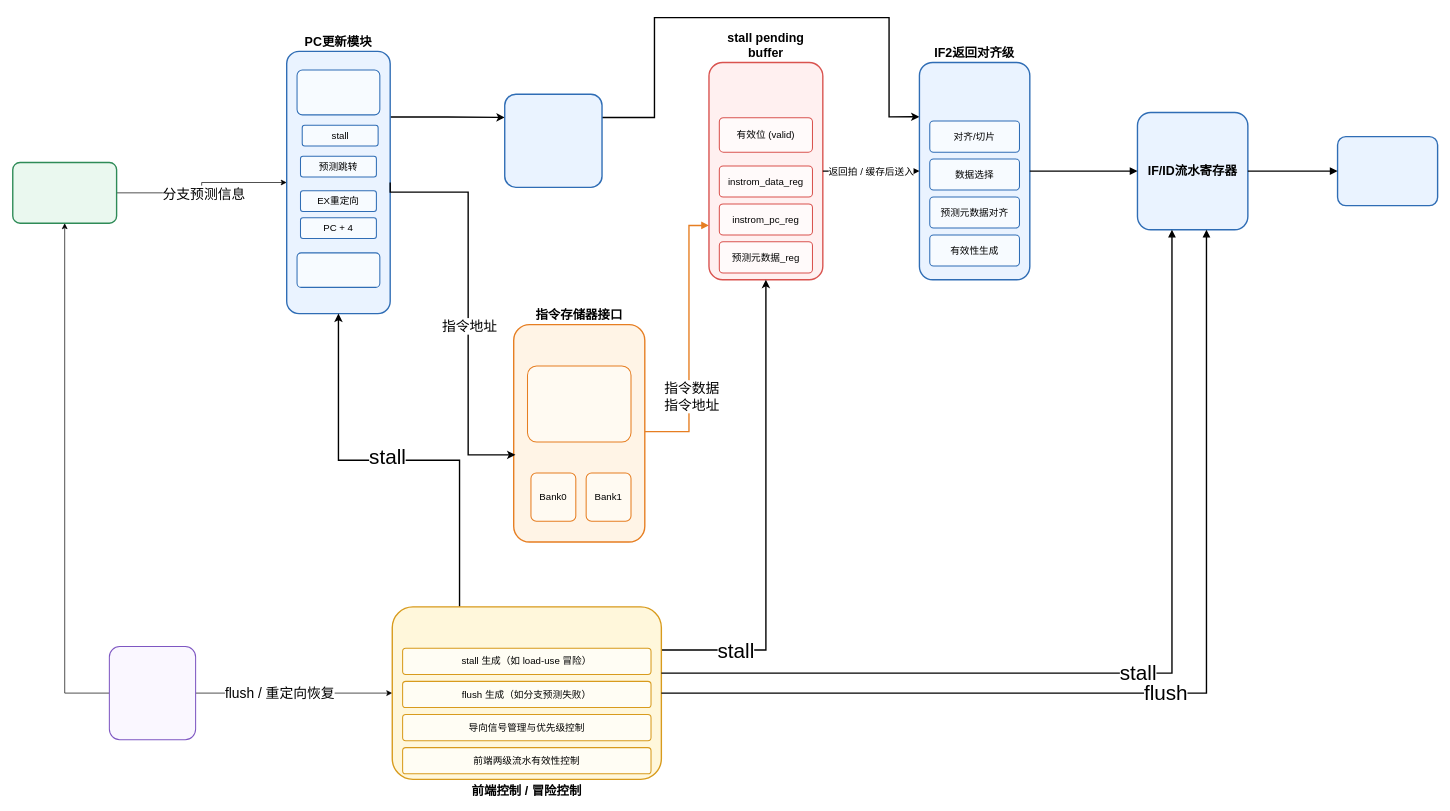
Image size: 1450x811. Some labels were removed from this diagram. The centre of each missing label's shape, as x and y in pixels:
"banked BRAM" goes at [579,403].
"EX执行结果 (分支解析) 及PC信息" goes at [152,693].
"ID译码级输入" goes at [1387,171].
"IF1请求寄存级" goes at [553,140].
"PC寄存器" goes at [338,270].
"PC选择器 (优先级控制)" goes at [338,92].
"分支预测模块" goes at [64,192].
